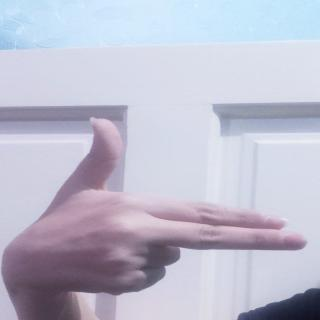GHAYN: (4, 109, 314, 298)
